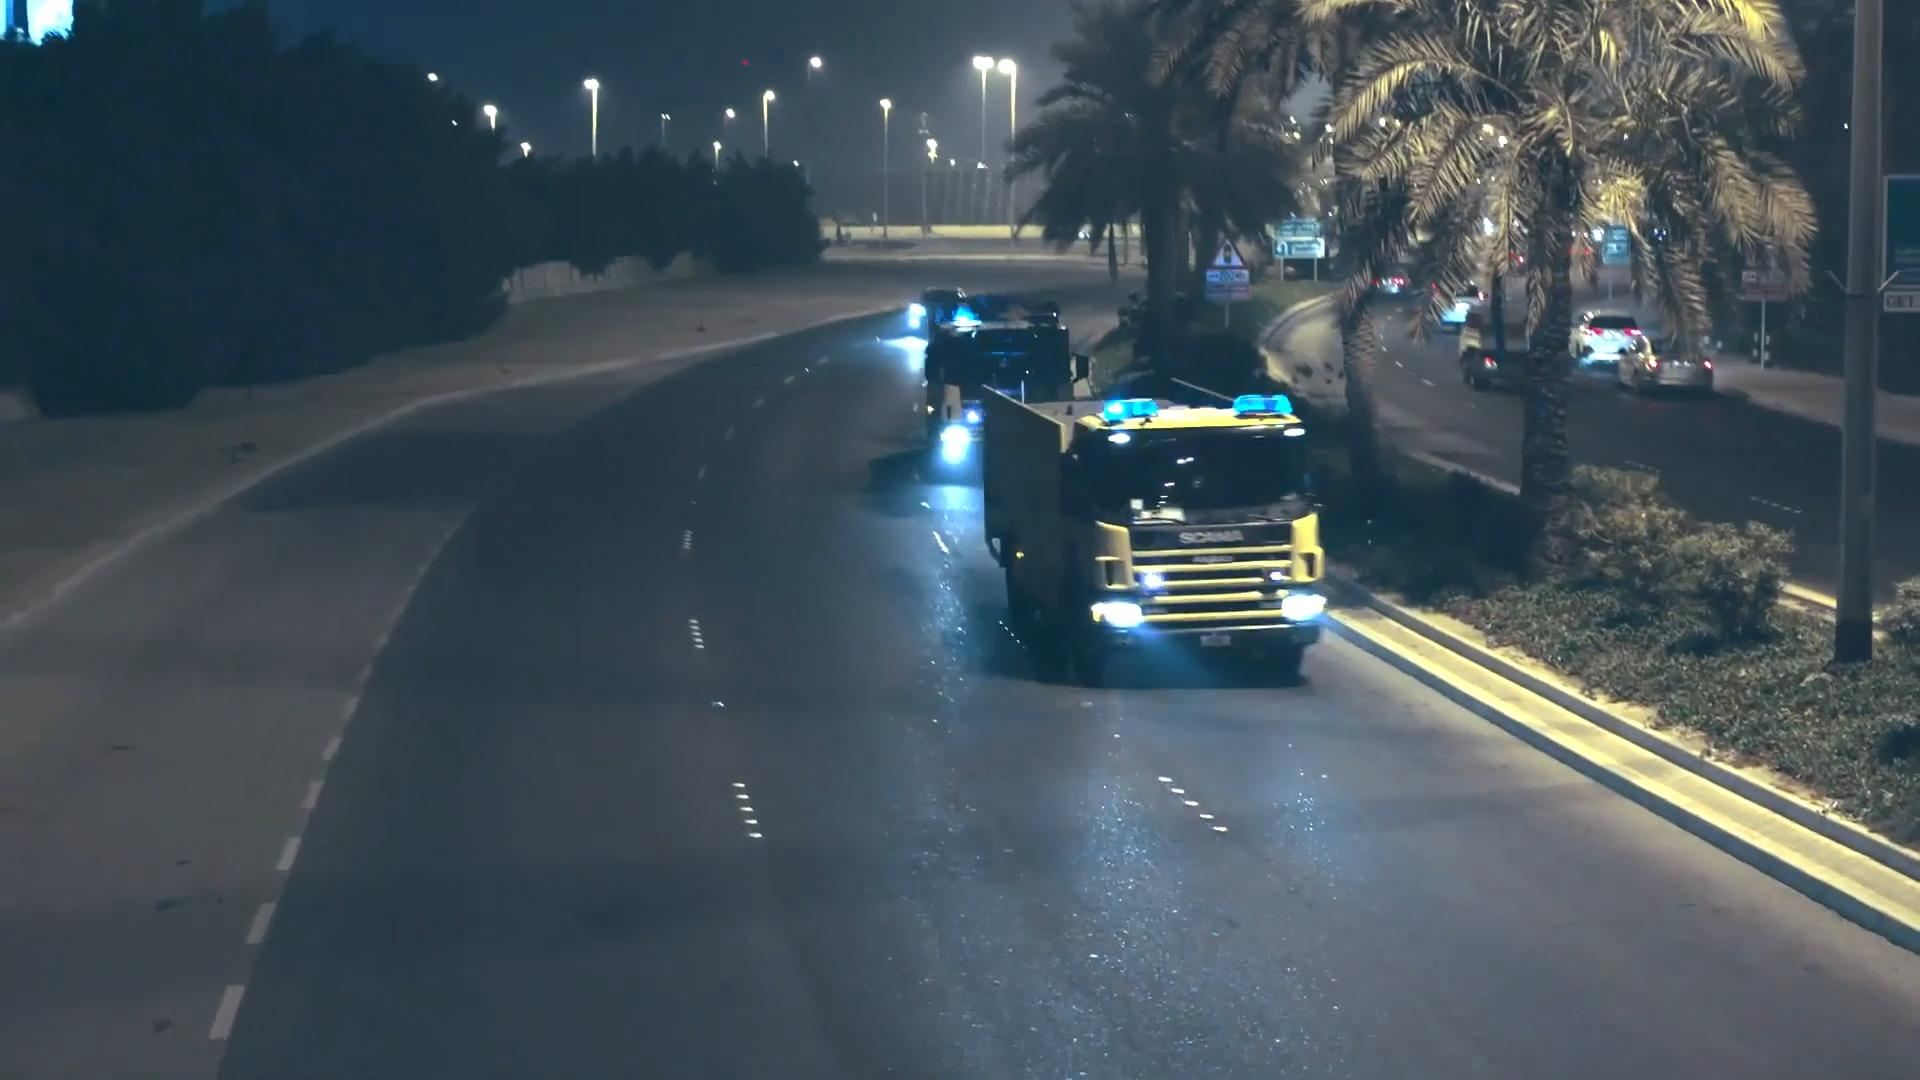firetruck_on: (984, 377, 1327, 683), (930, 291, 1087, 480)
